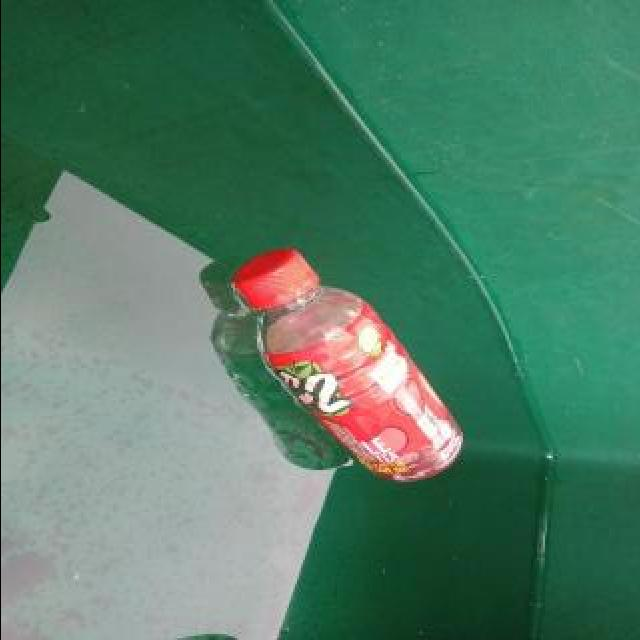Bottle: (230, 243, 467, 486)
